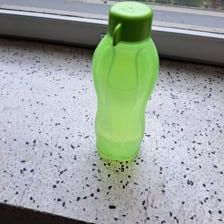bottle: (89, 1, 160, 164)
